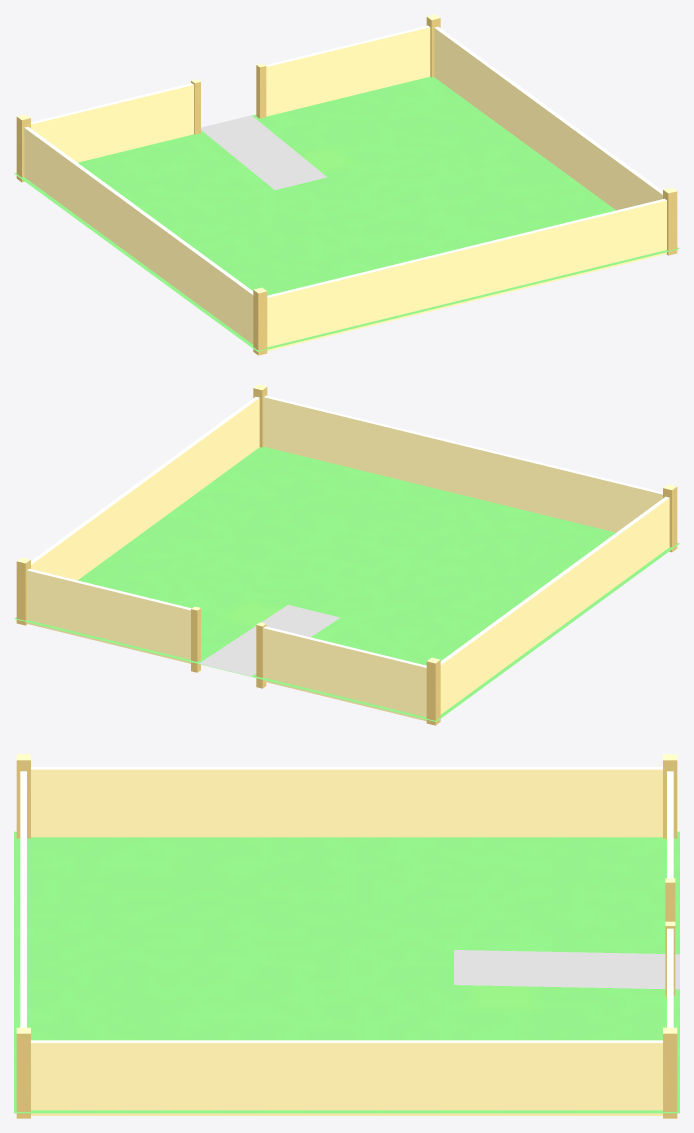
Rendered from tile_for_home_1x1.glb.
3 views of the same model, one above another, from view 1: azimuth 30°, elevation 25°; view 2: azimuth 150°, elevation 25°; view 3: azimuth 270°, elevation 25° (orthographic). The views are drawn at different scales.
Visible parts, largest first — view 1: tile_for_home_1x1(Clone); view 2: tile_for_home_1x1(Clone); view 3: tile_for_home_1x1(Clone).
Boxes of the visible parts, x1,y1,x2,y2 form: tile_for_home_1x1(Clone): [14, 14, 679, 355]; tile_for_home_1x1(Clone): [14, 384, 679, 725]; tile_for_home_1x1(Clone): [14, 754, 679, 1118].
Size of the model in its own units: 8 by 1.23 by 8.
Materials: 1 (1 with a texture image).
